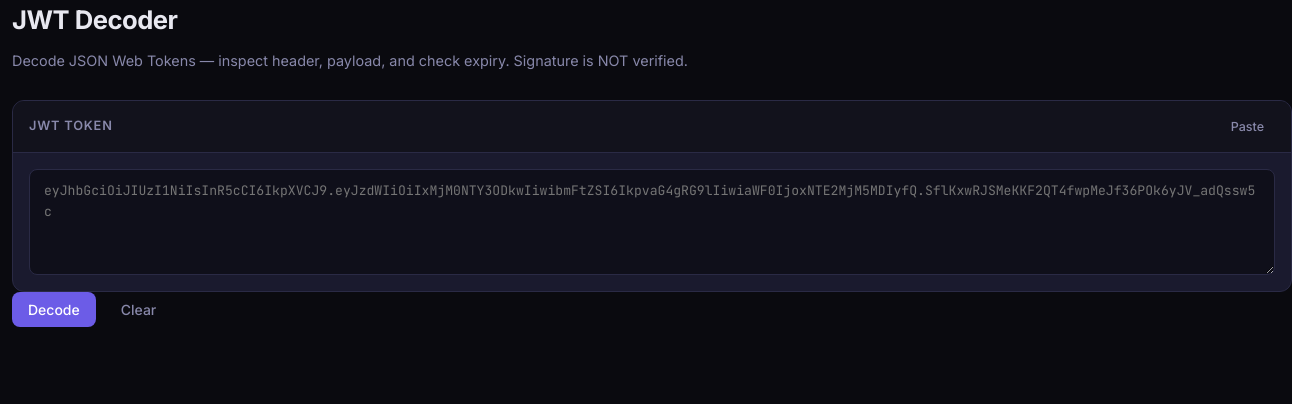
JwtDecoder › shows error for token with wrong number of parts
Replace the text in the text box with "only.twoparts": point(652, 222) [29,169,1275,275]
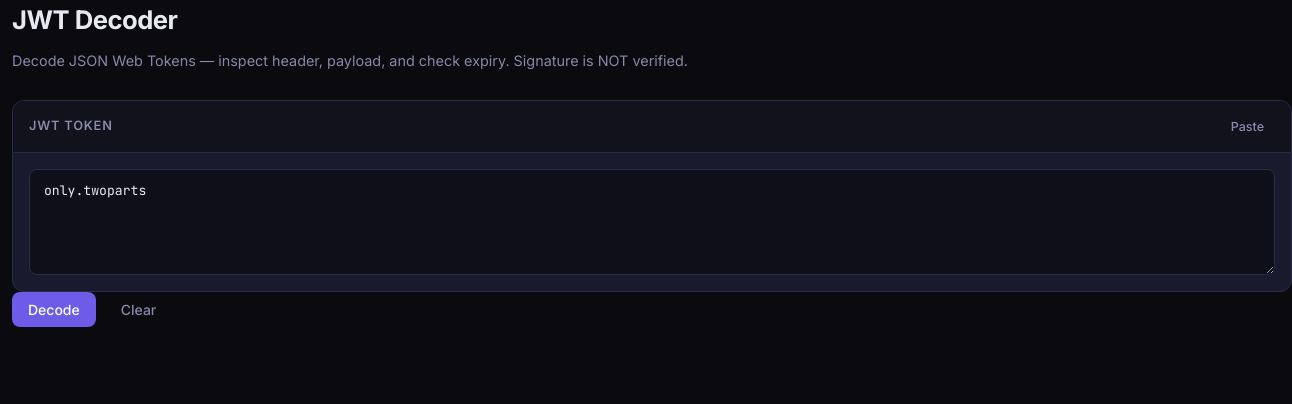
Click the button "Decode": point(54, 309) [12,292,96,327]
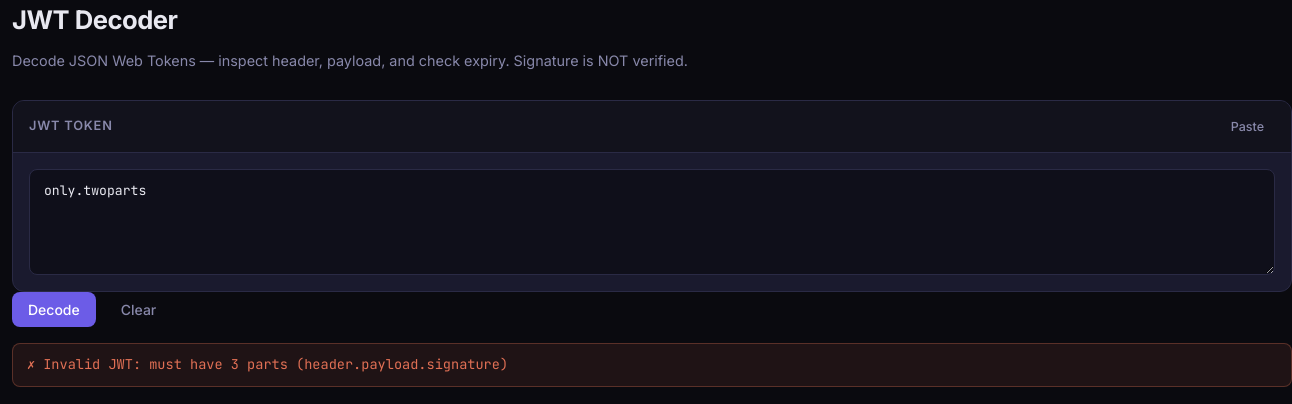
Now the text "✗ Invalid JWT: must have 3 parts (header.payload.signature)" is shown, box [12,343,1291,387]
